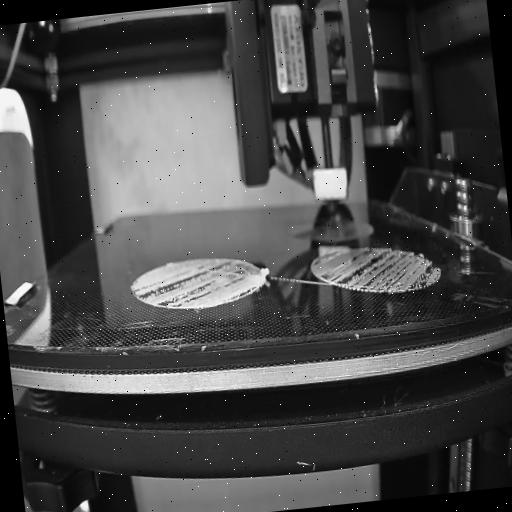under_extrusion: (134, 262, 258, 312), (338, 241, 438, 301), (311, 253, 336, 287)
